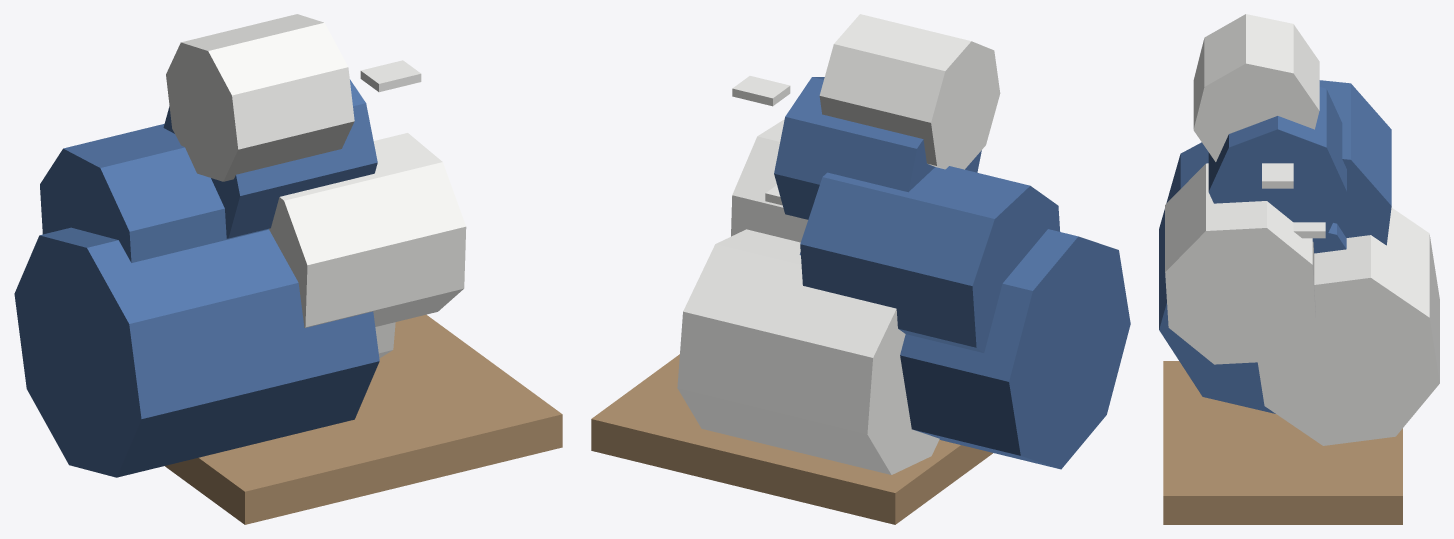
The model's file is marina-and-yacht-club-marina-and-yacht-club-sail-bag-s-88745dc1__38319.glb.
3 views of the same model, side by side, from view 1: azimuth 30°, elevation 25°; view 2: azimuth 150°, elevation 25°; view 3: azimuth 270°, elevation 25° (orthographic). The views are drawn at different scales.
Parts seen in each view (by area): view 1: marina-and-yacht-club-sail-bag-stack; view 2: marina-and-yacht-club-sail-bag-stack; view 3: marina-and-yacht-club-sail-bag-stack.
Boxes of the visible parts, x1,y1,x2,y2 form: marina-and-yacht-club-sail-bag-stack: (14,14,562,524); marina-and-yacht-club-sail-bag-stack: (591,14,1130,524); marina-and-yacht-club-sail-bag-stack: (1159,14,1439,524).
Bounding box in the file's own units: 1.6 × 1.58 × 1.05.
